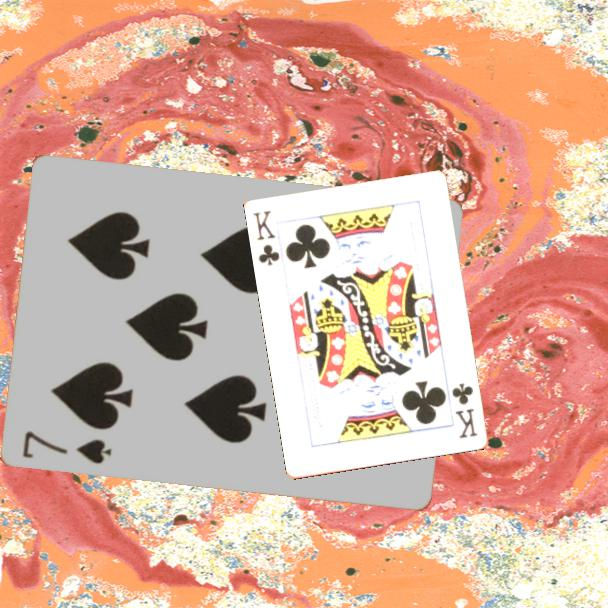c13: (250, 207, 283, 269), (449, 380, 481, 441)
s07: (18, 427, 114, 467)
